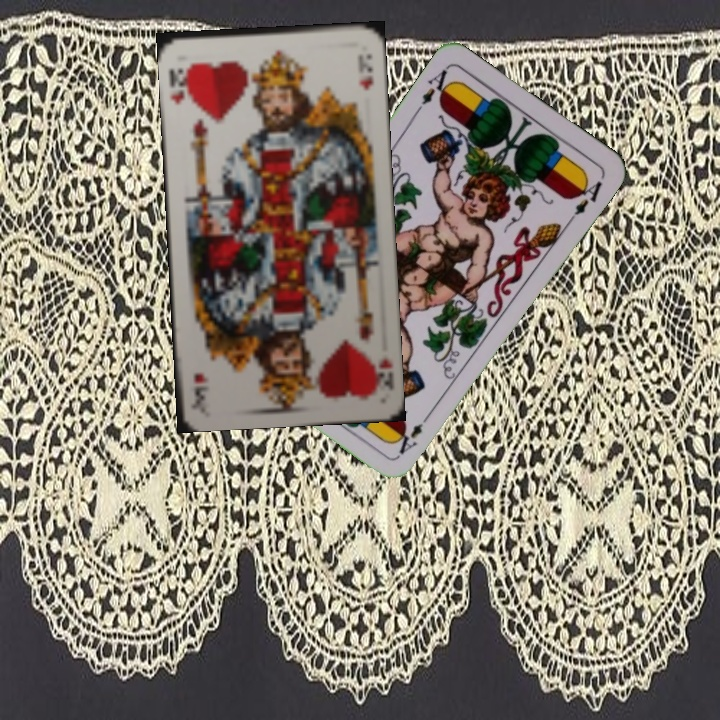EA: (395, 407, 435, 457), (418, 64, 457, 108)
HK: (165, 58, 194, 107), (366, 351, 395, 393)
